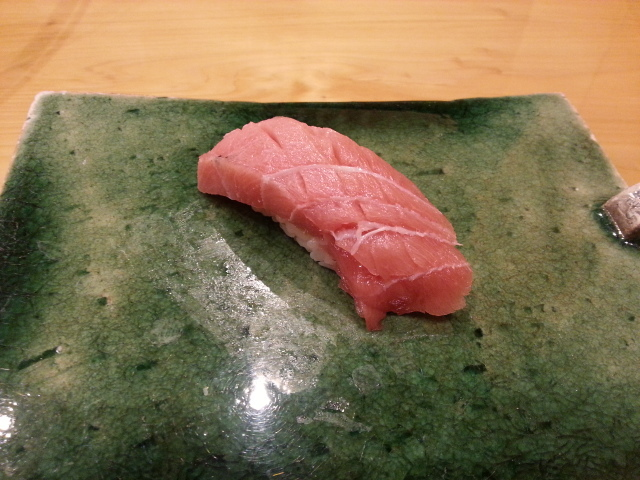medium_fatty_tuna: (210, 118, 479, 336)
